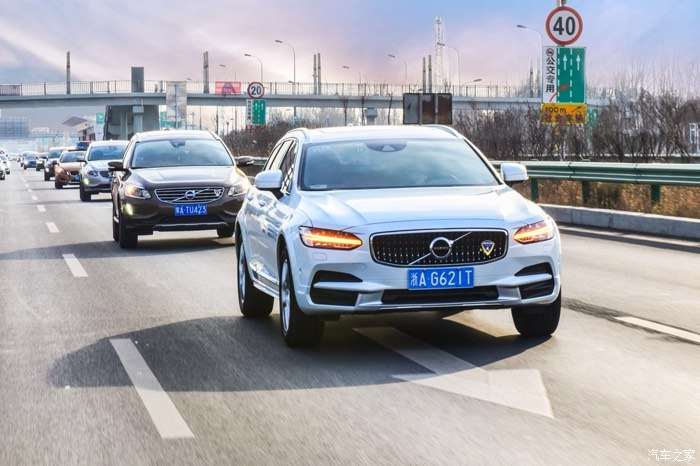car: (235, 115, 567, 348), (109, 118, 252, 246), (86, 131, 121, 200), (47, 148, 92, 191)
